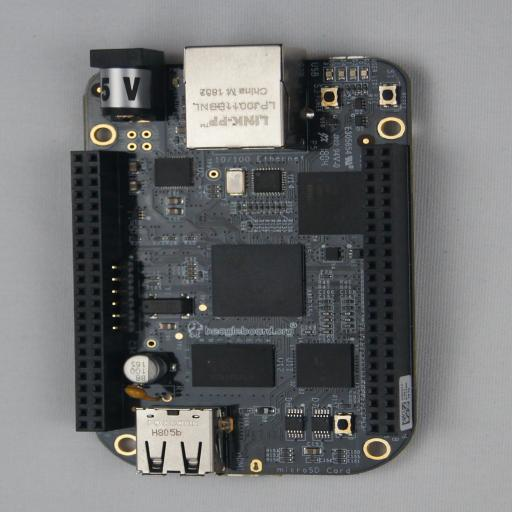Beaglebone Black: (70, 43, 431, 476)
